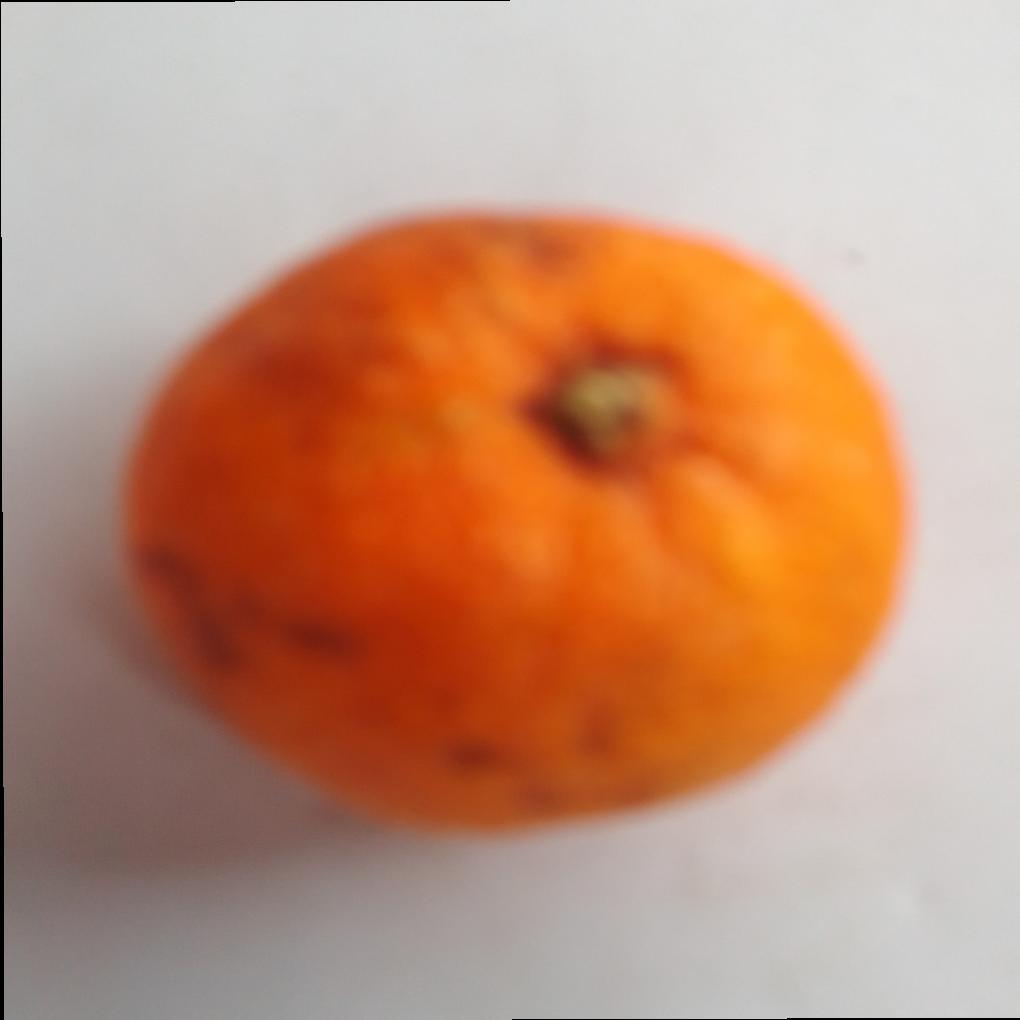FreshOrange: (116, 207, 913, 840)
